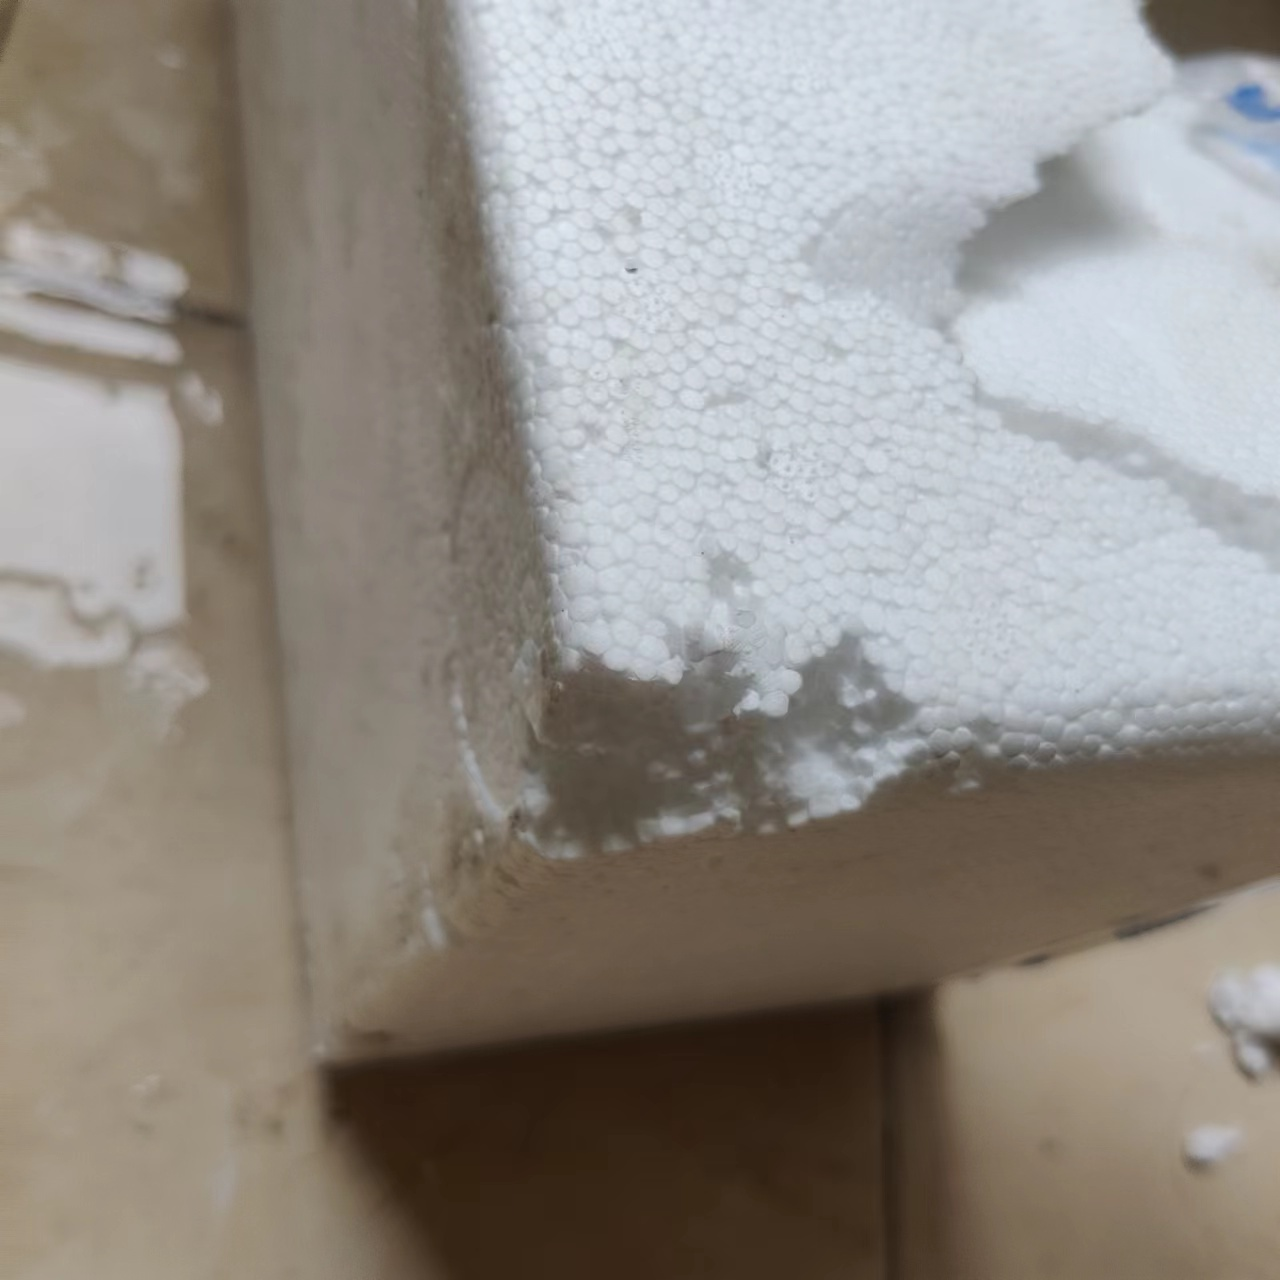5/可回收垃圾/泡沫: (229, 1, 1280, 1073)
